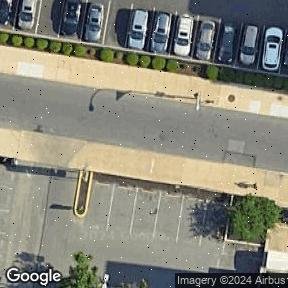vegetation: (223, 192, 284, 245), (60, 251, 101, 288)
